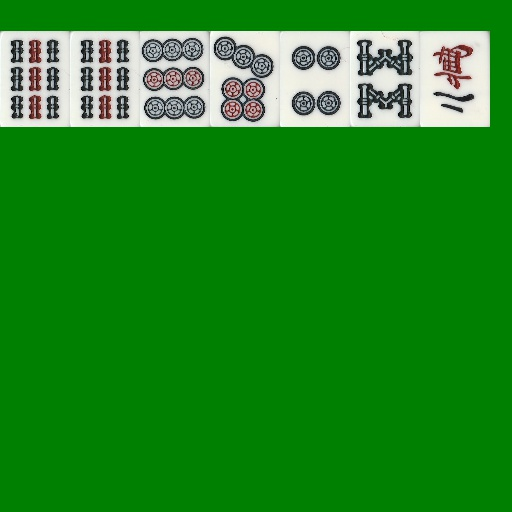2m: (420, 31, 490, 127)
4p: (280, 31, 350, 127)
7p: (210, 31, 280, 127)
8s: (350, 31, 420, 127)
9p: (140, 31, 210, 127)
9s: (0, 31, 70, 127), (70, 31, 140, 127)
